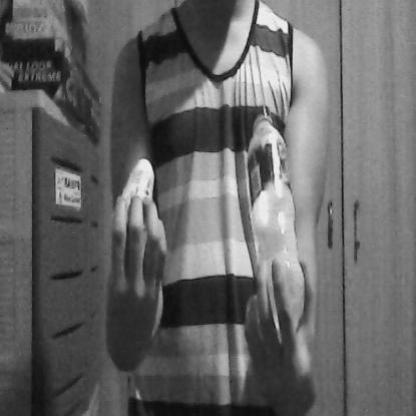Plastic Bottle: (240, 89, 310, 349)
